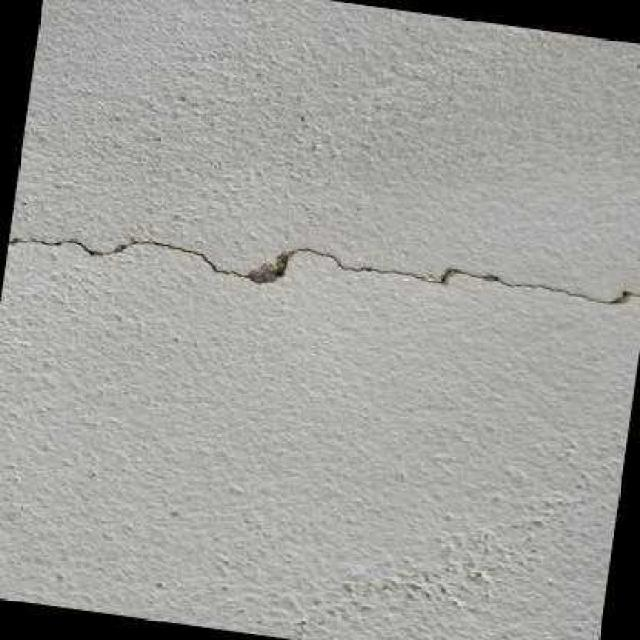D00: (8, 234, 640, 302)
